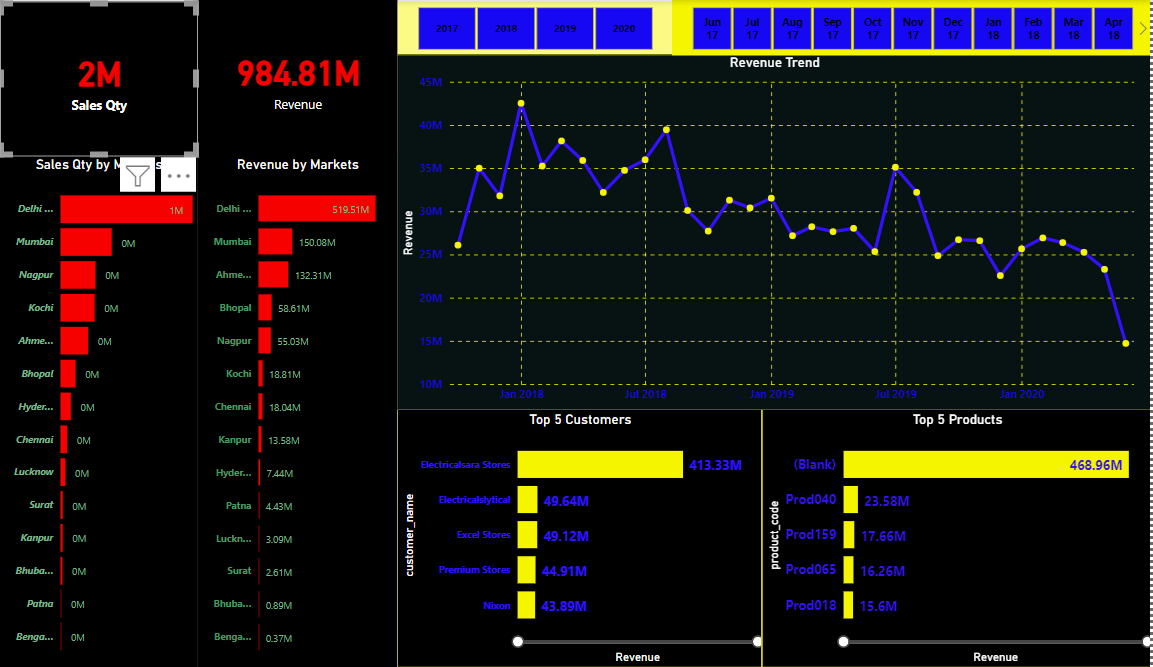

This screenshot's page, from the dashboard's own definition file:
{"tool":"powerbi","page":{"name":"Page 1","canvas":[1435,832],"ordinal":0},"visuals":[{"type":"card","fields":{"Values":["BaseMeasures (2).Revenue"]},"box":[246.8,0,248.7,194.4],"z":0},{"type":"card","fields":{"Values":["BaseMeasures (2).Sales Qty"]},"box":[0,1.9,246.8,192.6],"z":1000},{"type":"barChart","title":"Revenue by Markets","fields":{"Y":["BaseMeasures (2).Revenue"],"Category":["sales markets.markets_name"]},"box":[246.8,194.4,248.7,637.6],"z":2000},{"type":"barChart","title":"Sales Qty by Markets","fields":{"Y":["BaseMeasures (2).Sales Qty"],"Category":["sales markets.markets_name"]},"box":[0,194.4,246.8,637.6],"z":3000},{"type":"kpi","fields":{"TrendLine":["sales date.cy_date"]},"box":[837.6,0,598.3,67.3],"z":4000},{"type":"barChart","title":"Top 5 Customers","fields":{"Y":["BaseMeasures (2).Revenue"],"Category":["sales customers.custmer_name"]},"box":[495.5,510.4,454.3,321.6],"z":5000},{"type":"barChart","title":"Top 5 Products","fields":{"Y":["BaseMeasures (2).Revenue"],"Category":["sales products.product_code"]},"box":[949.8,510.4,486.1,321.6],"z":6000},{"type":"lineChart","title":"Revenue Trend","fields":{"Y":["BaseMeasures (2).Revenue"],"Category":["sales date.cy_date"]},"box":[495.5,67.3,940.4,443.1],"z":7000},{"type":"lineClusteredColumnComboChart","box":[837.6,0,598.3,67.3],"z":8000},{"type":"slicer","fields":{"Values":["sales date.year"]},"box":[495.5,1.9,342.1,67.3],"z":9000},{"type":"slicer","box":[837.6,0,598.3,67.3],"z":10000},{"type":"slicer","fields":{"Values":["sales date.cy_date"]},"box":[837.6,1.9,598.3,67.3],"z":11000}]}

Visuals, with their boxes in screenshot pixels (x1, y1, x2, y2), scaled from the page's 1435x832 canvas onto the 1153x667 screenshot:
card - BaseMeasures (2).Revenue: 198/0/398/156
card - BaseMeasures (2).Sales Qty: 0/2/198/156
"Revenue by Markets" barChart: 198/156/398/666
"Sales Qty by Markets" barChart: 0/156/198/666
kpi - sales date.cy_date: 673/0/1152/54
"Top 5 Customers" barChart: 398/409/763/666
"Top 5 Products" barChart: 763/409/1152/666
"Revenue Trend" lineChart: 398/54/1152/409
lineClusteredColumnComboChart: 673/0/1152/54
slicer - sales date.year: 398/2/673/55
slicer: 673/0/1152/54
slicer - sales date.cy_date: 673/2/1152/55
